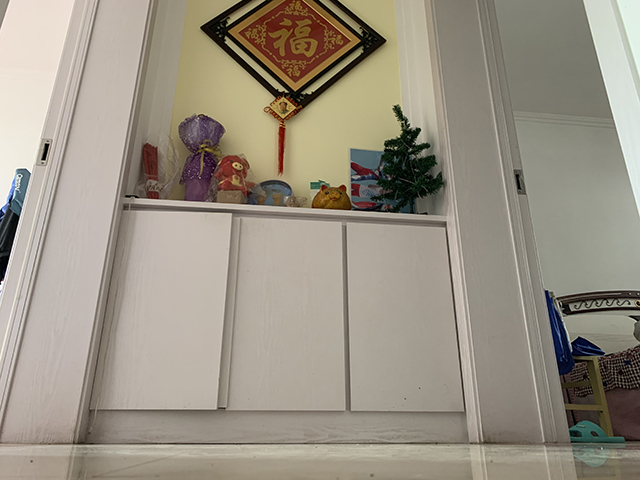bed: (548, 289, 640, 441)
cabinet: (82, 195, 470, 445)
slippers: (569, 420, 626, 444)
